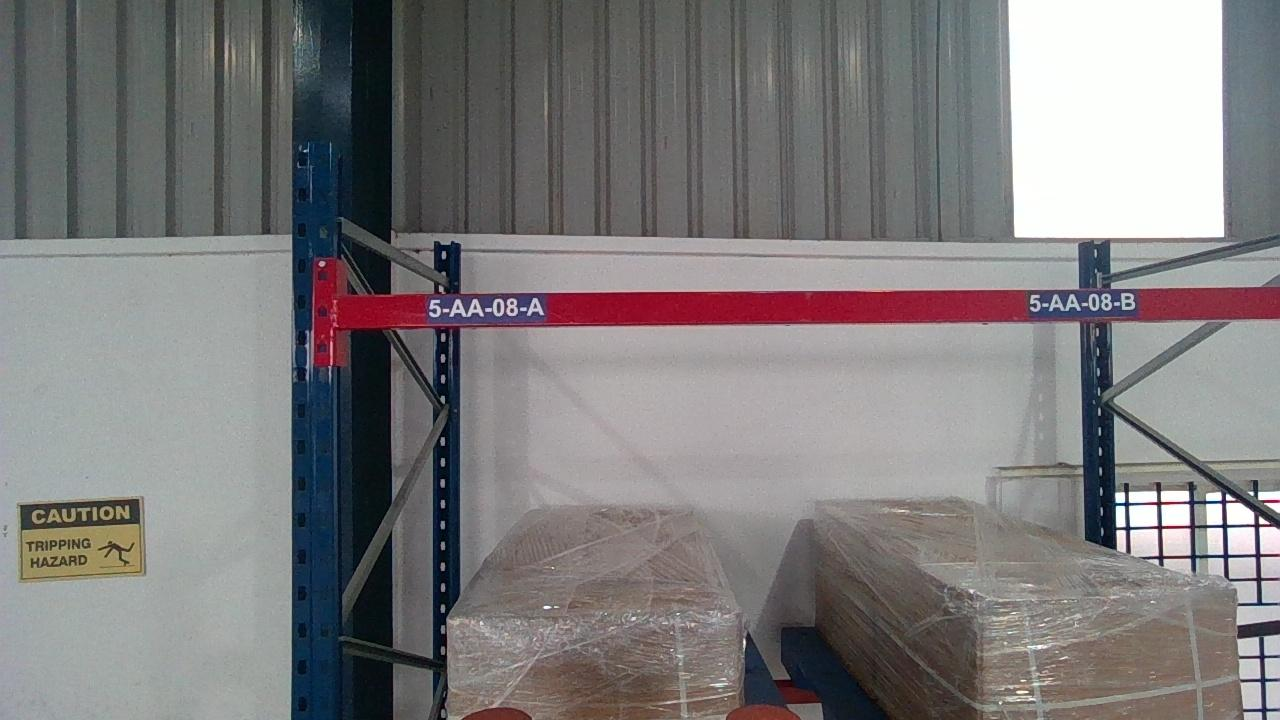h_rack: (327, 294, 1280, 322)
